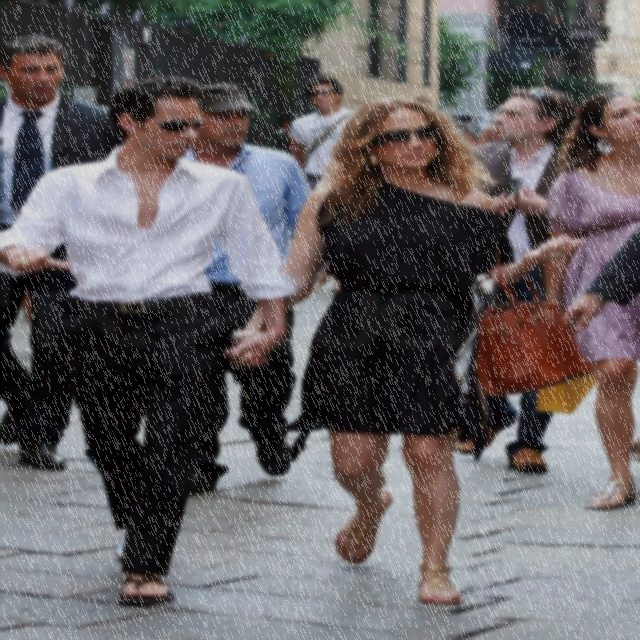pessoa: (222, 94, 603, 606), (0, 73, 298, 608), (0, 32, 129, 472), (186, 81, 320, 492), (450, 85, 578, 476), (541, 91, 639, 512), (289, 75, 357, 293), (570, 215, 639, 332), (404, 84, 494, 146), (16, 290, 40, 344)
